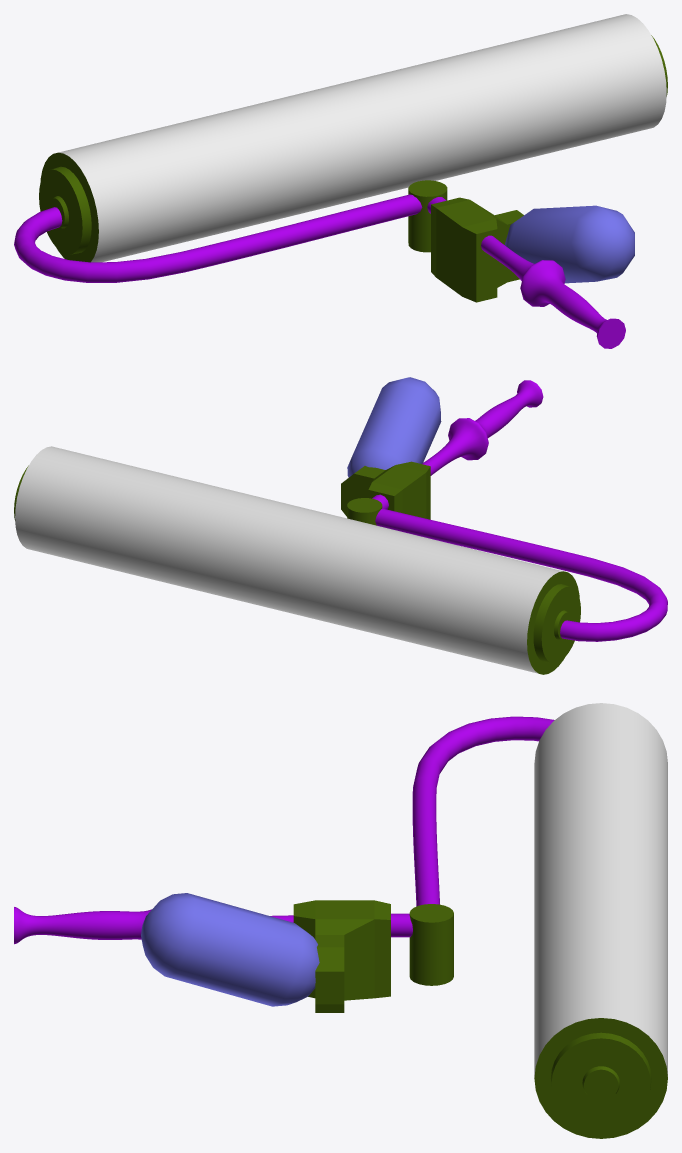
File: W_Roller.fbx
3 views of the same model, one above another, from view 1: azimuth 30°, elevation 25°; view 2: azimuth 150°, elevation 25°; view 3: azimuth 270°, elevation 25° (orthographic). The views are drawn at different scales.
Parts seen in each view (by area): view 1: Roller, Handle, RollerFrame; view 2: Roller, Handle, RollerFrame; view 3: Roller, Handle, RollerFrame.
Boxes of the visible parts, <box> form: Roller: <box>39,14,667,262</box>; Handle: <box>408,180,634,348</box>; RollerFrame: <box>14,194,422,282</box>; Roller: <box>14,446,580,674</box>; Handle: <box>341,377,543,525</box>; RollerFrame: <box>375,508,667,641</box>; Roller: <box>534,703,667,1138</box>; Handle: <box>14,893,453,1012</box>; RollerFrame: <box>412,716,554,906</box>.
Bounding box in the file's own units: 2.92 × 0.4775 × 2.2.
